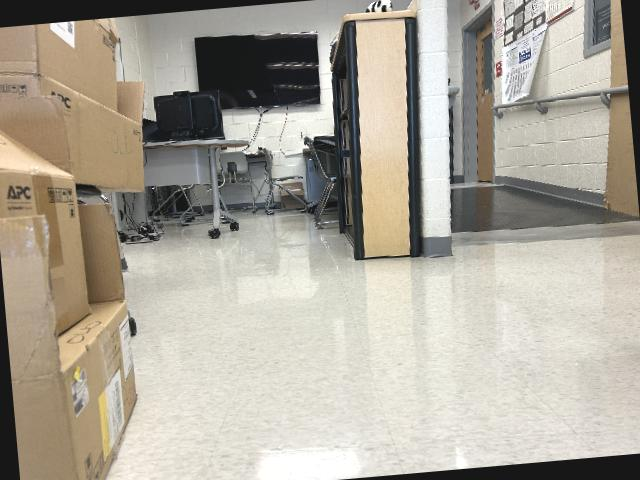panda_plushie: (363, 0, 391, 13)
